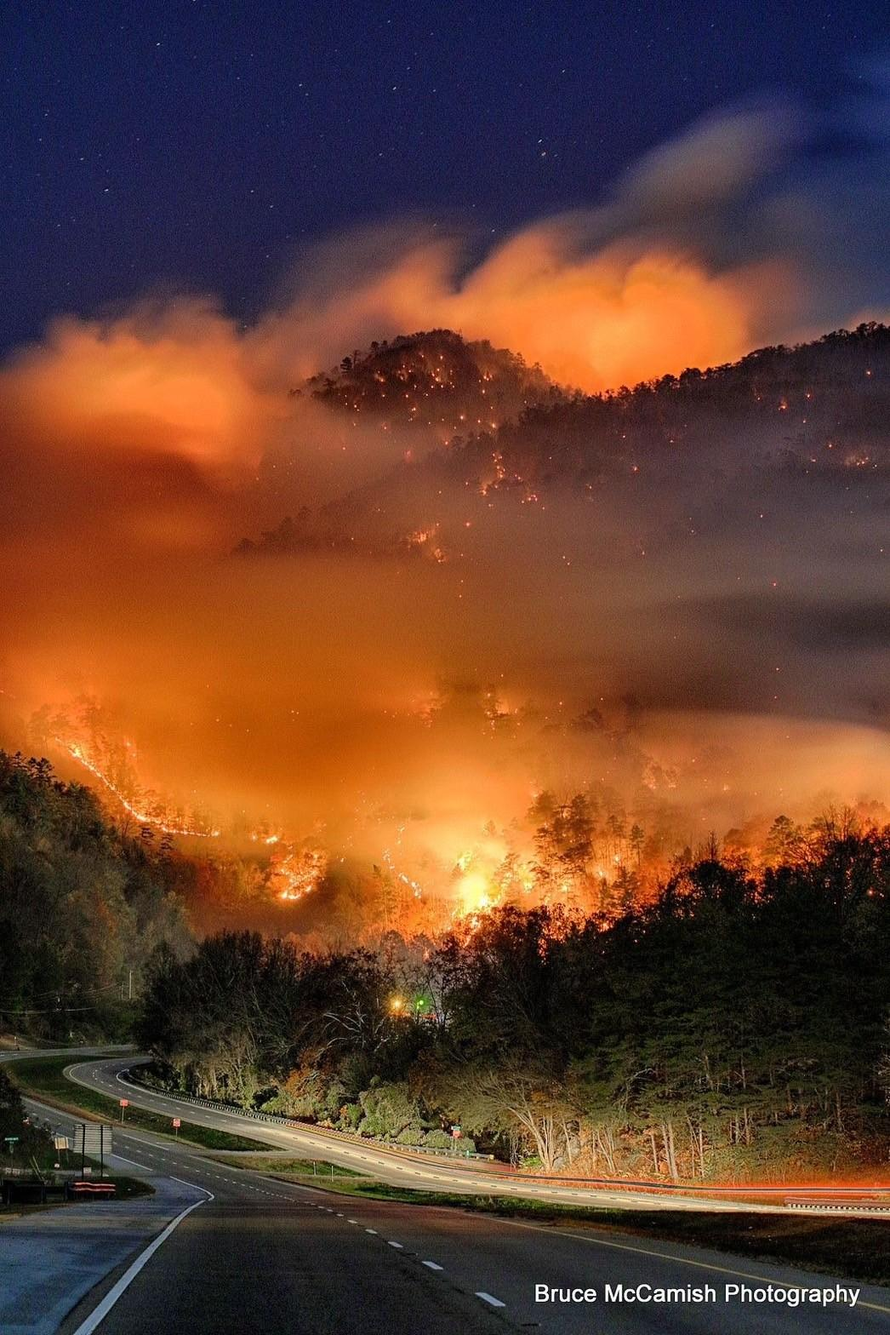fire: (301, 775, 659, 984), (325, 347, 573, 501), (61, 719, 216, 858), (218, 802, 335, 908)
